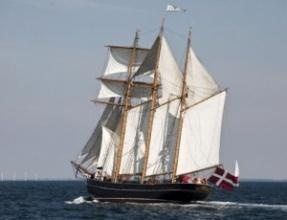fanchuan: (68, 12, 243, 197)
